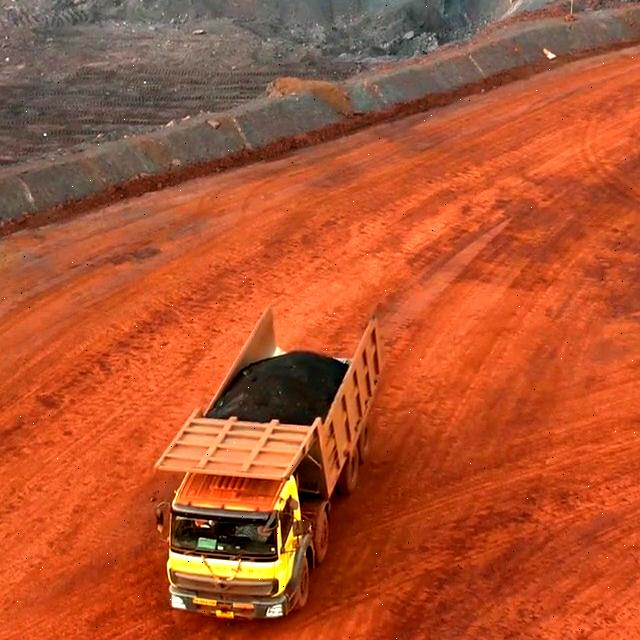Dumper truck: (161, 424, 313, 621)
